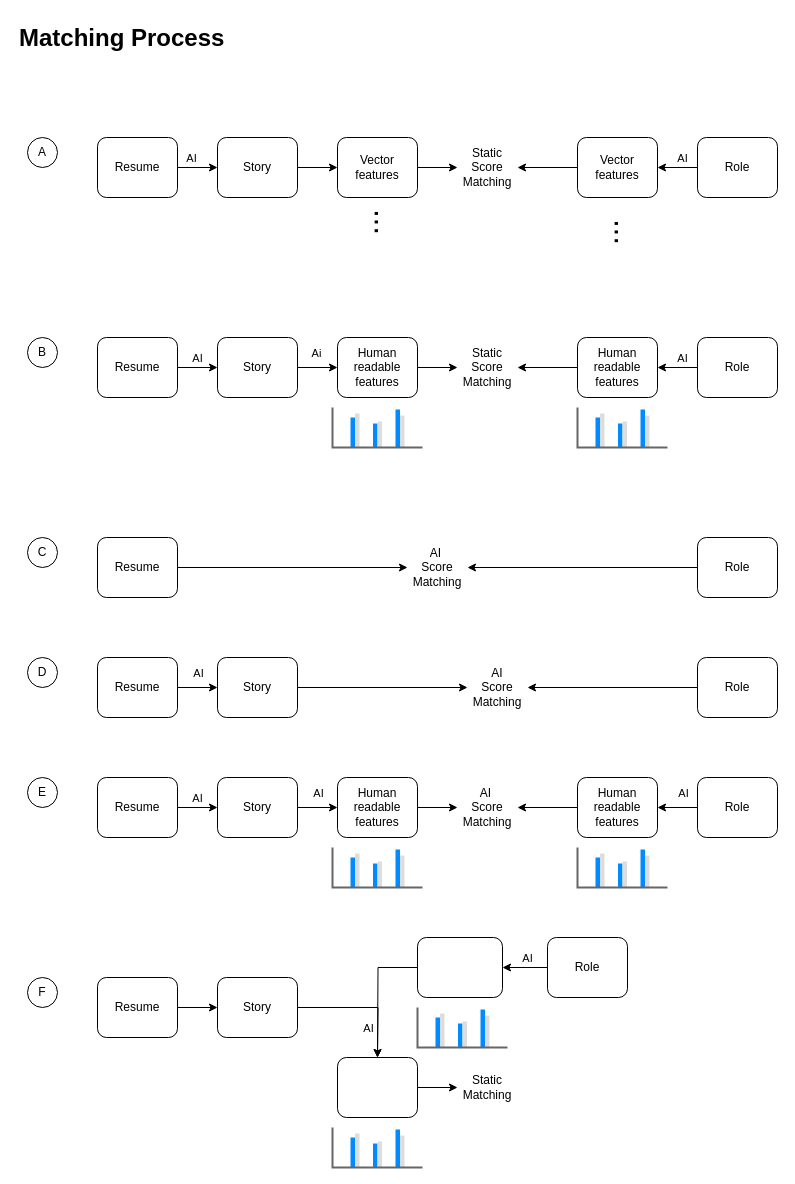
Image size: 795x1184. Some labels were removed from this diagram. The shapes that lost their labels are listed below. From the top down, each one's box as (x1, y1, x2, y2) in pixels, then its label:
(416, 936, 502, 998): Choose role specific features
(336, 1056, 418, 1118): Story features based on specific role
